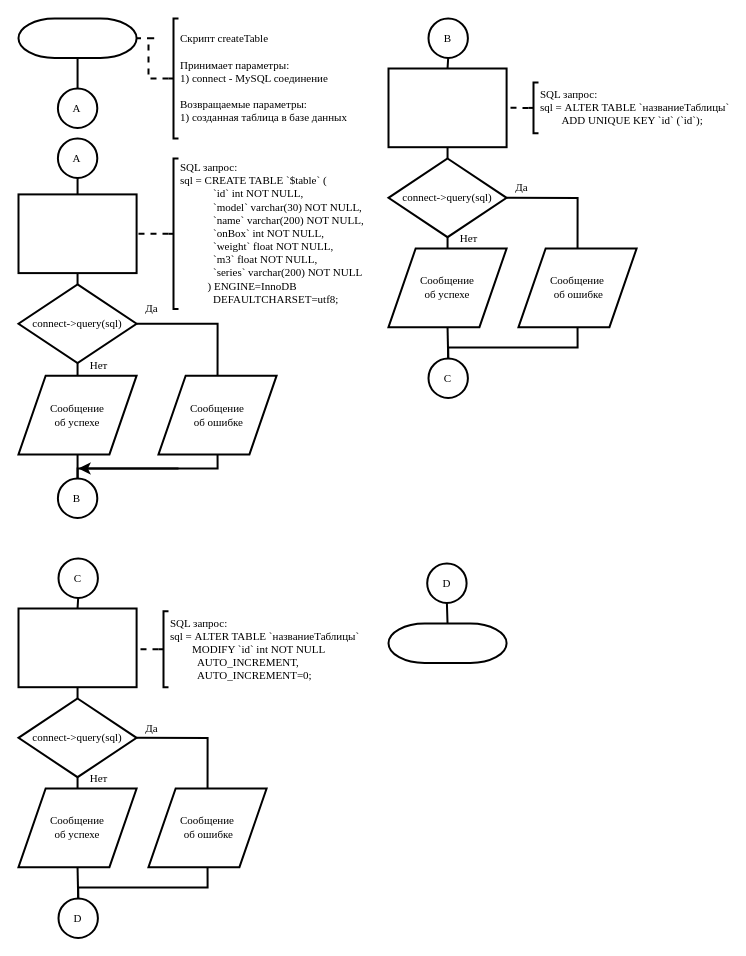
This 746x956 diagram has some shape labels left out. The shapes that lost their labels are listed below. From the top down, each one's centre as x and y in pixels, then its label:
[77,37]: Начало
[447,107]: sql = " ALTER TABLE `" + table + "` ADD UNIQUE KEY `id` (`id`);"
[77,233]: sql = CREATE TABLE `" + table + "` ( `id` int NOT NULL, ..........
[77,647]: sql = ALTER TABLE `" + table + "` MODIFY `id` int NOT NULL.........
[447,642]: Конец
